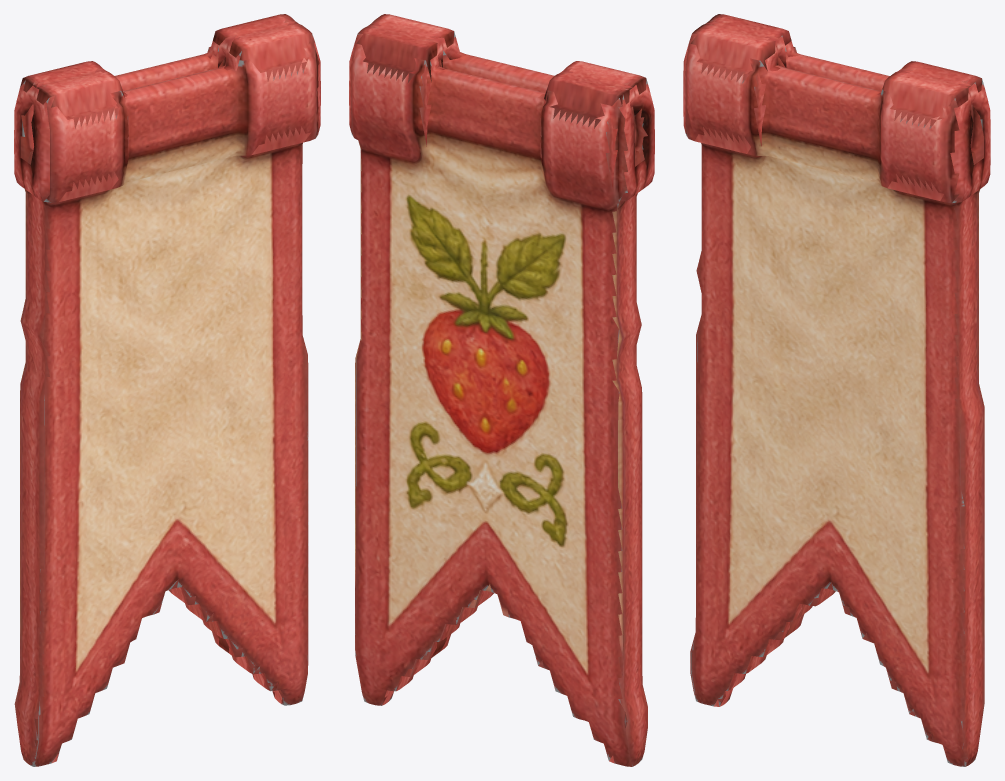
The model's file is flag.glb.
3 views of the same model, side by side, from view 1: azimuth 30°, elevation 25°; view 2: azimuth 150°, elevation 25°; view 3: azimuth 330°, elevation 25° (orthographic).
Size of the model in its own units: 0.4324 by 1 by 0.1161.
Materials: 1 (1 with a texture image).
